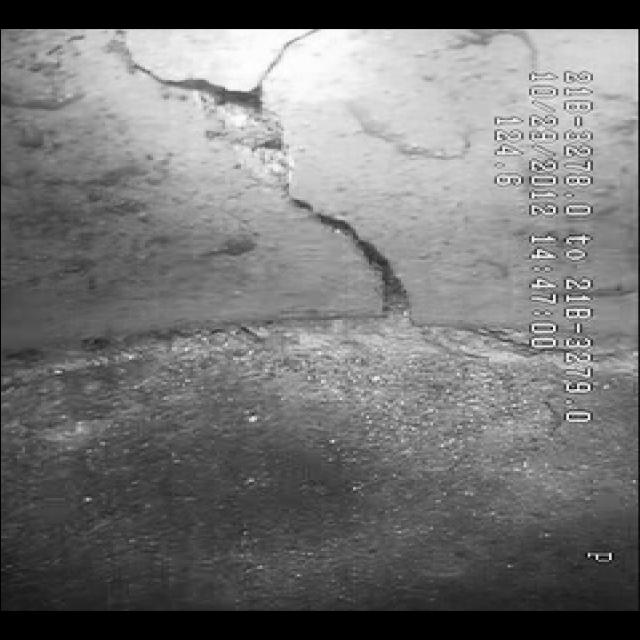Fracture: (128, 38, 424, 310)
